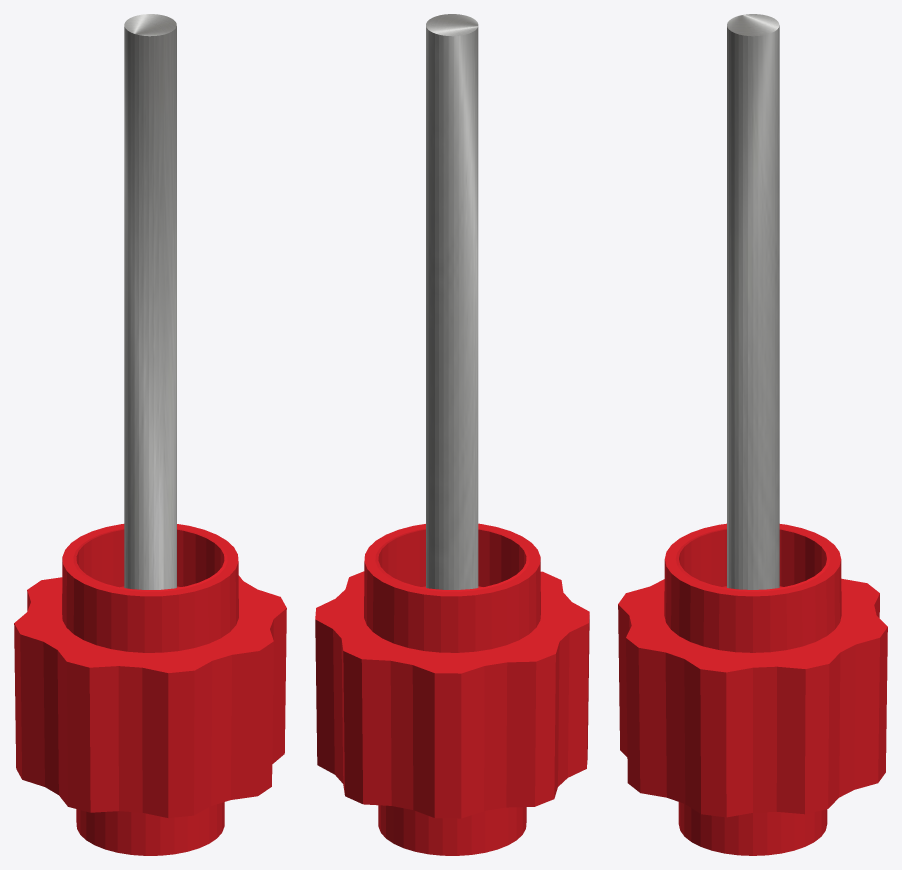
File: planeMixture.obj
The picture shows the model from 3 angles, left to right: view 1: azimuth 30°, elevation 25°; view 2: azimuth 150°, elevation 25°; view 3: azimuth 270°, elevation 25°; orthographic projection.
Visible parts, largest first — view 1: Cylinder.004_Cylinder.005; view 2: Cylinder.004_Cylinder.005; view 3: Cylinder.004_Cylinder.005.
Boxes of the visible parts, bbox=[...] form: Cylinder.004_Cylinder.005: bbox=[14, 14, 286, 855]; Cylinder.004_Cylinder.005: bbox=[315, 14, 589, 855]; Cylinder.004_Cylinder.005: bbox=[618, 14, 887, 855].
Size of the model in its own units: 9.15 by 29.93 by 9.15.
